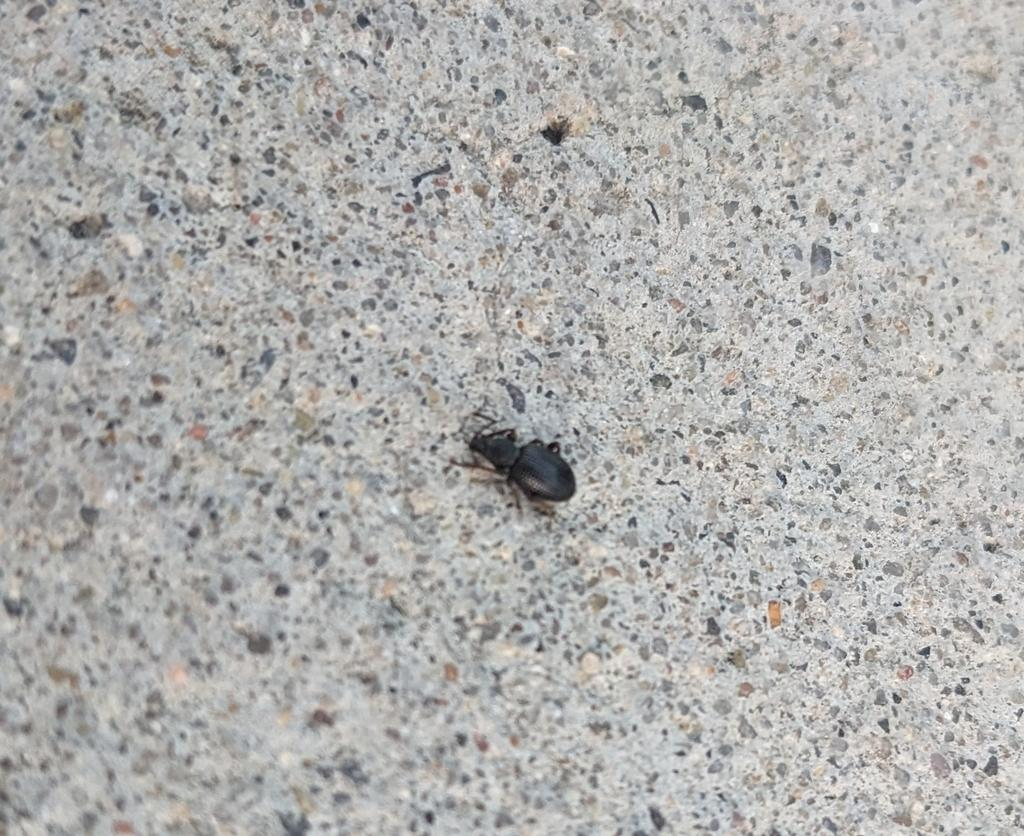weevils: (425, 382, 616, 545)
